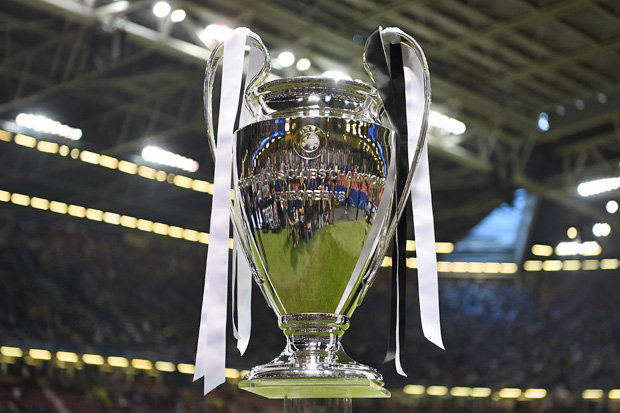trophy: (192, 25, 449, 403)
